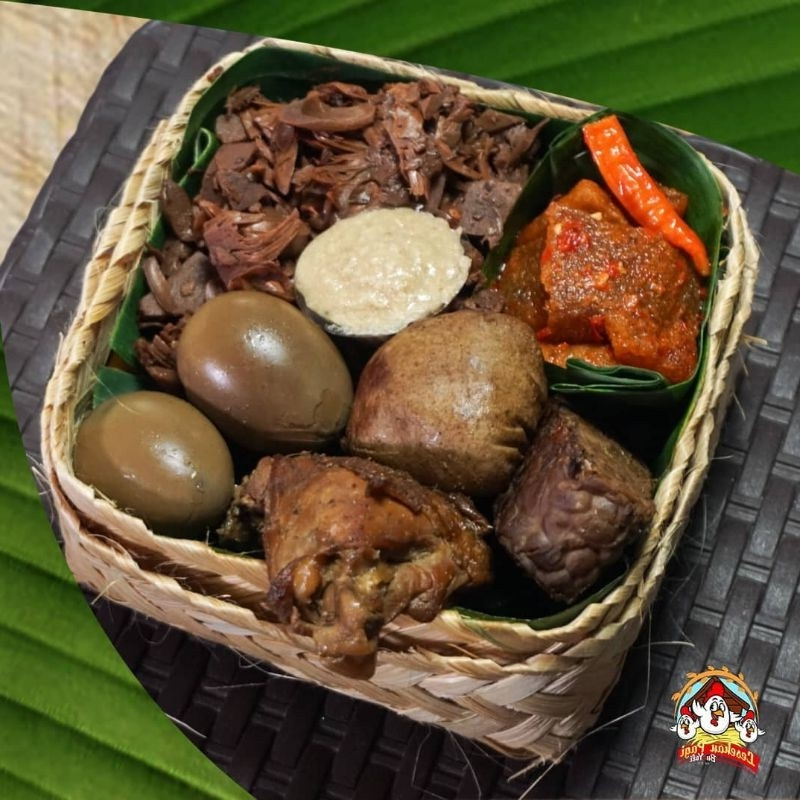gudeg: (76, 77, 704, 664)
